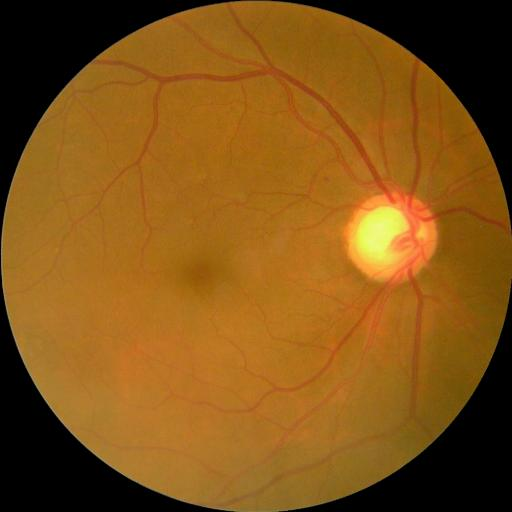Optic Cup: (356, 206, 425, 268)
Optic Disc: (346, 192, 437, 285)
